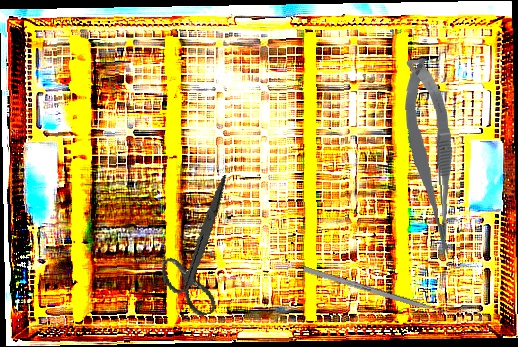Iris Scissors: (140, 174, 263, 324)
Micro Scissor: (400, 57, 460, 257)
Pusher: (302, 266, 462, 320)
